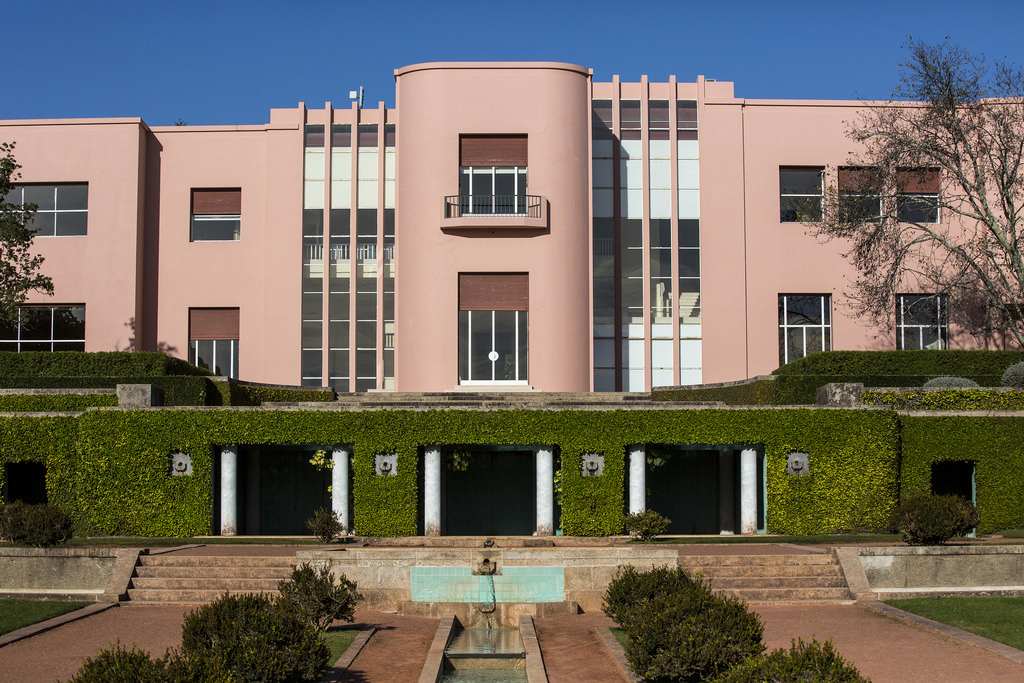serralves: (0, 59, 1023, 391)
